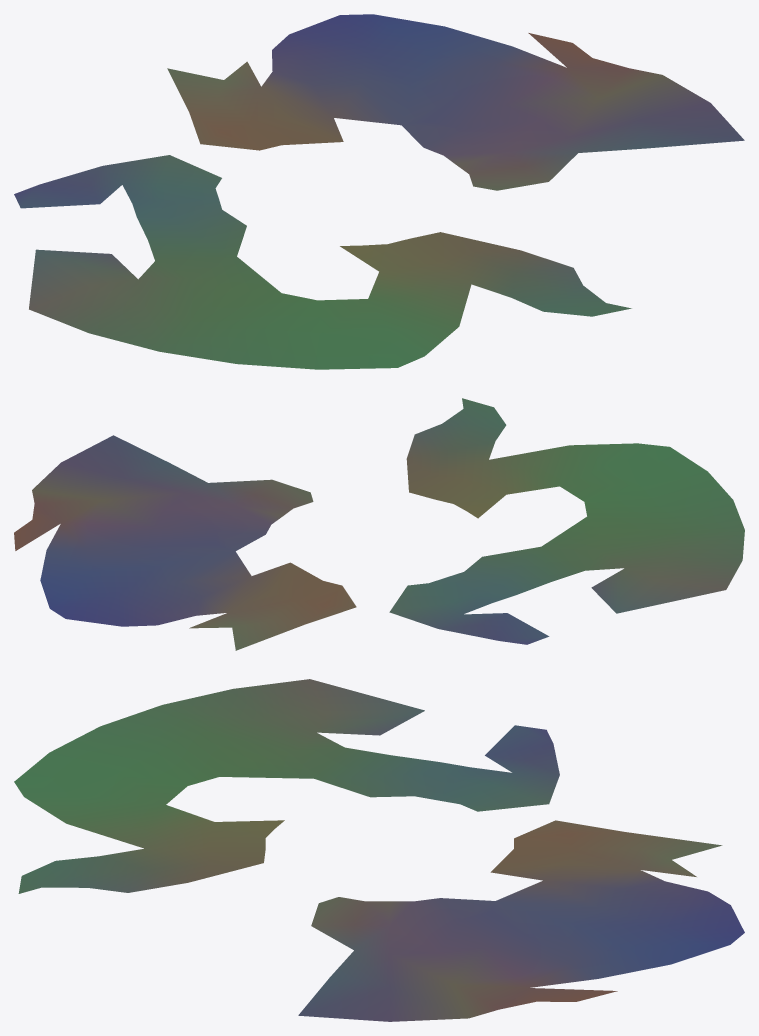
The model's file is space-galaxies-irregular-galaxy_v16.glb.
3 views of the same model, one above another, from view 1: azimuth 30°, elevation 25°; view 2: azimuth 150°, elevation 25°; view 3: azimuth 270°, elevation 25° (orthographic). The views are drawn at different scales.
Parts seen in each view (by area): view 1: Irregular Galaxy_v16; view 2: Irregular Galaxy_v16; view 3: Irregular Galaxy_v16.
Part boxes in pixels (x1,y1,x2,y2): Irregular Galaxy_v16: (14,14,744,369); Irregular Galaxy_v16: (14,398,744,650); Irregular Galaxy_v16: (14,679,744,1021).
Size of the model in its own units: 0.5 by 1.15e-07 by 0.4505.
